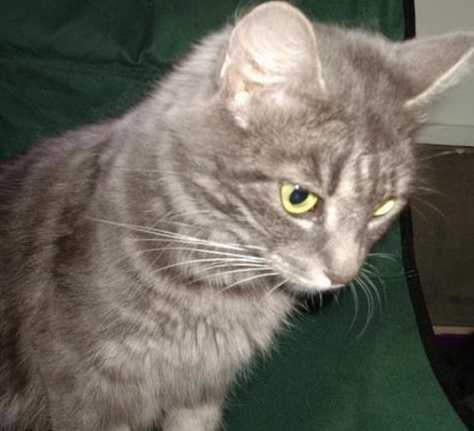Cat: (0, 25, 413, 430)
